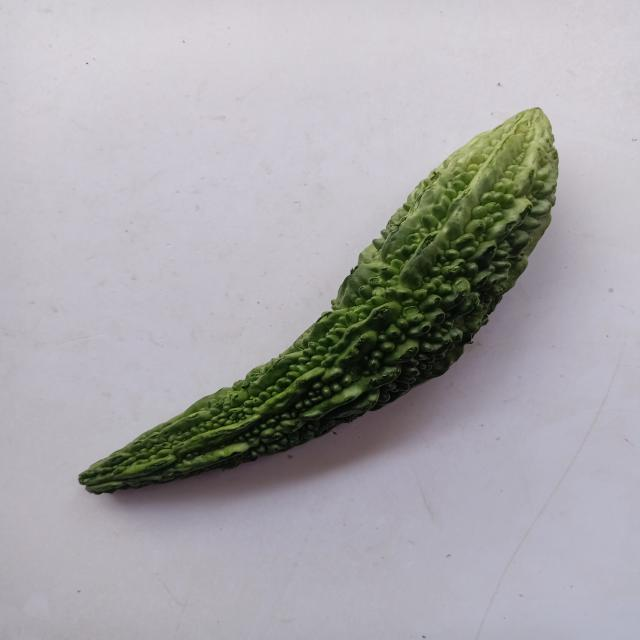Bitter Gourd: (50, 88, 588, 506)
